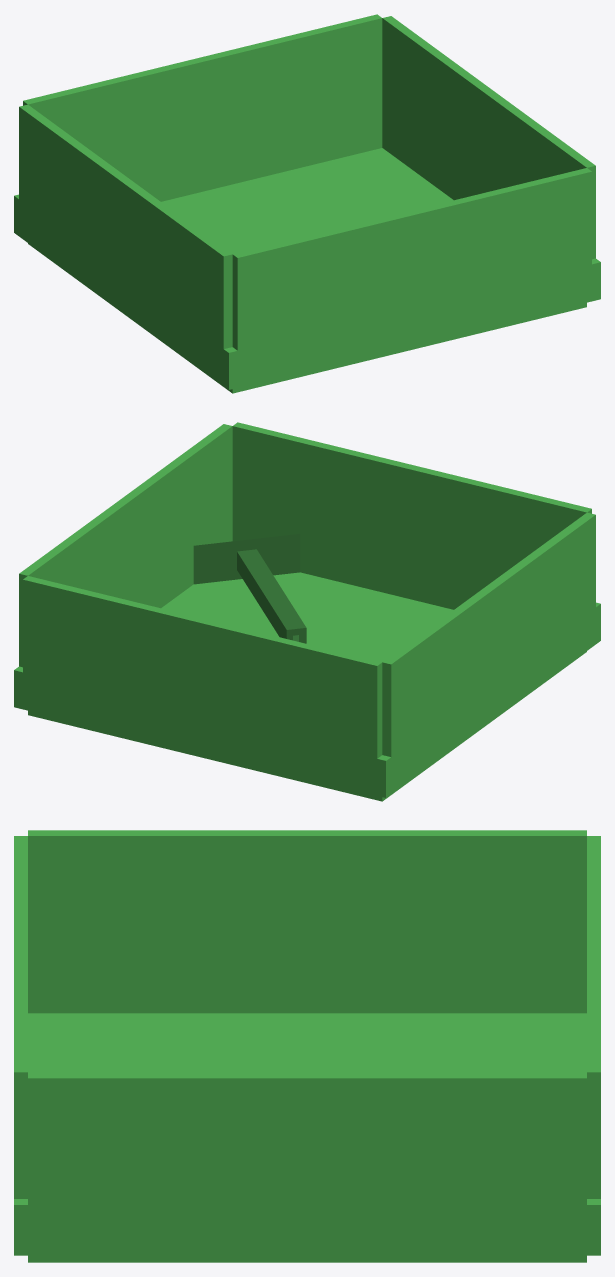
File: Ground3.glb
3 renders of one model, top to bottom at view 1: azimuth 30°, elevation 25°; view 2: azimuth 150°, elevation 25°; view 3: azimuth 270°, elevation 25°, orthographic. The views are drawn at different scales.
Visible parts, largest first — view 1: Ground; view 2: Ground, Tunnel; view 3: Ground.
Boxes of the visible parts, x1=… form: Ground: x1=14, y1=14, x2=600, y2=393; Ground: x1=14, y1=422, x2=600, y2=801; Tunnel: x1=193, y1=533, x2=306, y2=643; Ground: x1=14, y1=830, x2=600, y2=1262.
Size of the model in its own units: 42 by 15.02 by 42.
